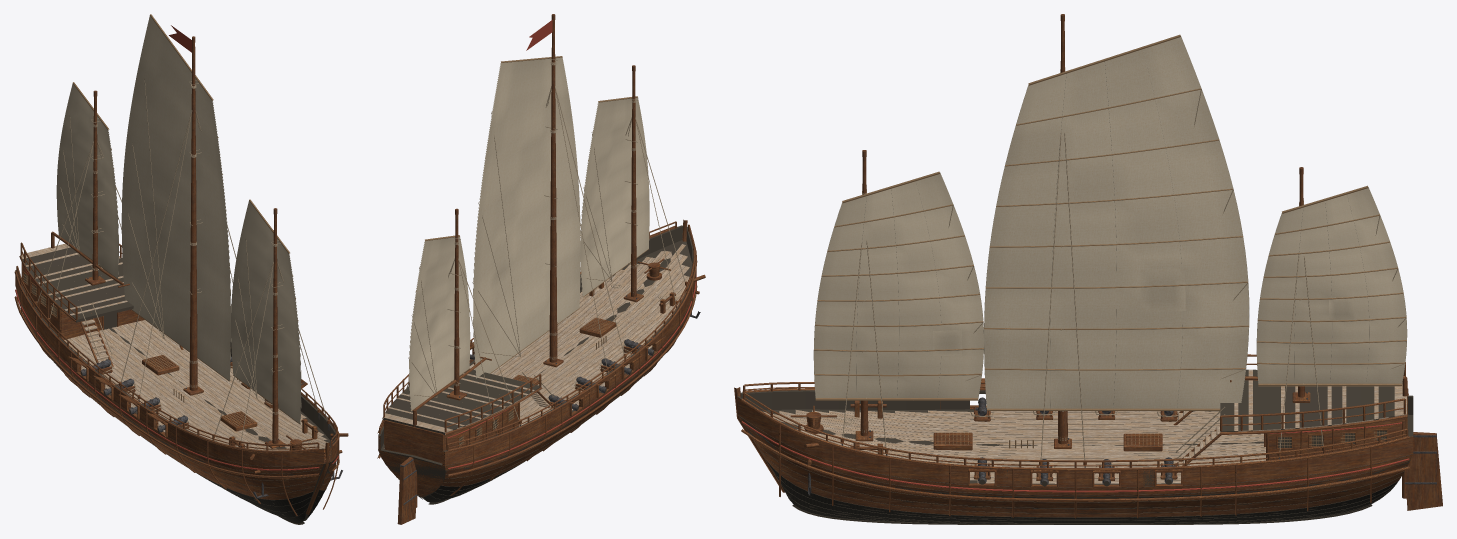
Rendered from fuchuan-lod1.glb.
3 views of the same model, side by side, from view 1: azimuth 30°, elevation 25°; view 2: azimuth 150°, elevation 25°; view 3: azimuth 270°, elevation 25° (orthographic). The views are drawn at different scales.
Visible parts, largest first — view 1: sail_1, hull, deck, sail_0, sail_2, shadow_deck, shadow_hull, deck_fittings, bulwark_rails, mast_timber_1, sterncastle, mast_timber_0 (+6 smaller); view 2: sail_1, deck, hull, sail_0, sail_2, shadow_hull, shadow_deck, sterncastle, bulwark_rails, deck_fittings, mast_timber_1, mast_timber_0 (+6 smaller); view 3: sail_1, hull, sail_0, sail_2, deck, shadow_hull, shadow_deck, bulwark_rails, deck_fittings, rudder_blade, sterncastle, rigging_1.
Part boxes in pixels (x1=…): sail_1: x1=121, y1=14, x2=231, y2=381; hull: x1=14, y1=270, x2=339, y2=524; deck: x1=19, y1=243, x2=329, y2=450; sail_0: x1=231, y1=199, x2=301, y2=424; sail_2: x1=56, y1=82, x2=118, y2=278; shadow_deck: x1=22, y1=247, x2=133, y2=322; shadow_hull: x1=15, y1=270, x2=335, y2=521; deck_fittings: x1=21, y1=262, x2=348, y2=498; bulwark_rails: x1=16, y1=242, x2=337, y2=450; mast_timber_1: x1=189, y1=43, x2=197, y2=390; sterncastle: x1=23, y1=266, x2=144, y2=339; mast_timber_0: x1=272, y1=214, x2=278, y2=443; sail_1: x1=472, y1=56, x2=580, y2=378; deck: x1=382, y1=244, x2=689, y2=448; hull: x1=377, y1=219, x2=697, y2=504; sail_0: x1=580, y1=96, x2=649, y2=297; sail_2: x1=408, y1=235, x2=470, y2=411; shadow_hull: x1=378, y1=225, x2=693, y2=501; shadow_deck: x1=383, y1=369, x2=541, y2=434; sterncastle: x1=384, y1=404, x2=518, y2=463; bulwark_rails: x1=379, y1=221, x2=695, y2=450; deck_fittings: x1=384, y1=258, x2=705, y2=450; mast_timber_1: x1=549, y1=20, x2=557, y2=362; mast_timber_0: x1=631, y1=71, x2=636, y2=297; sail_1: x1=984, y1=34, x2=1249, y2=411; hull: x1=734, y1=387, x2=1413, y2=524; sail_0: x1=813, y1=171, x2=983, y2=400; sail_2: x1=1256, y1=185, x2=1407, y2=386; deck: x1=763, y1=369, x2=1407, y2=483; shadow_hull: x1=737, y1=390, x2=1413, y2=523; shadow_deck: x1=1220, y1=369, x2=1394, y2=431; bulwark_rails: x1=743, y1=354, x2=1408, y2=467; deck_fittings: x1=790, y1=392, x2=1403, y2=494; rudder_blade: x1=1406, y1=432, x2=1442, y2=510; sterncastle: x1=1266, y1=381, x2=1407, y2=460; rigging_1: x1=1039, y1=132, x2=1086, y2=473.
Bounding box in the file's own units: 10.4 × 26.66 × 33.58.
11 materials, 6 textured.
